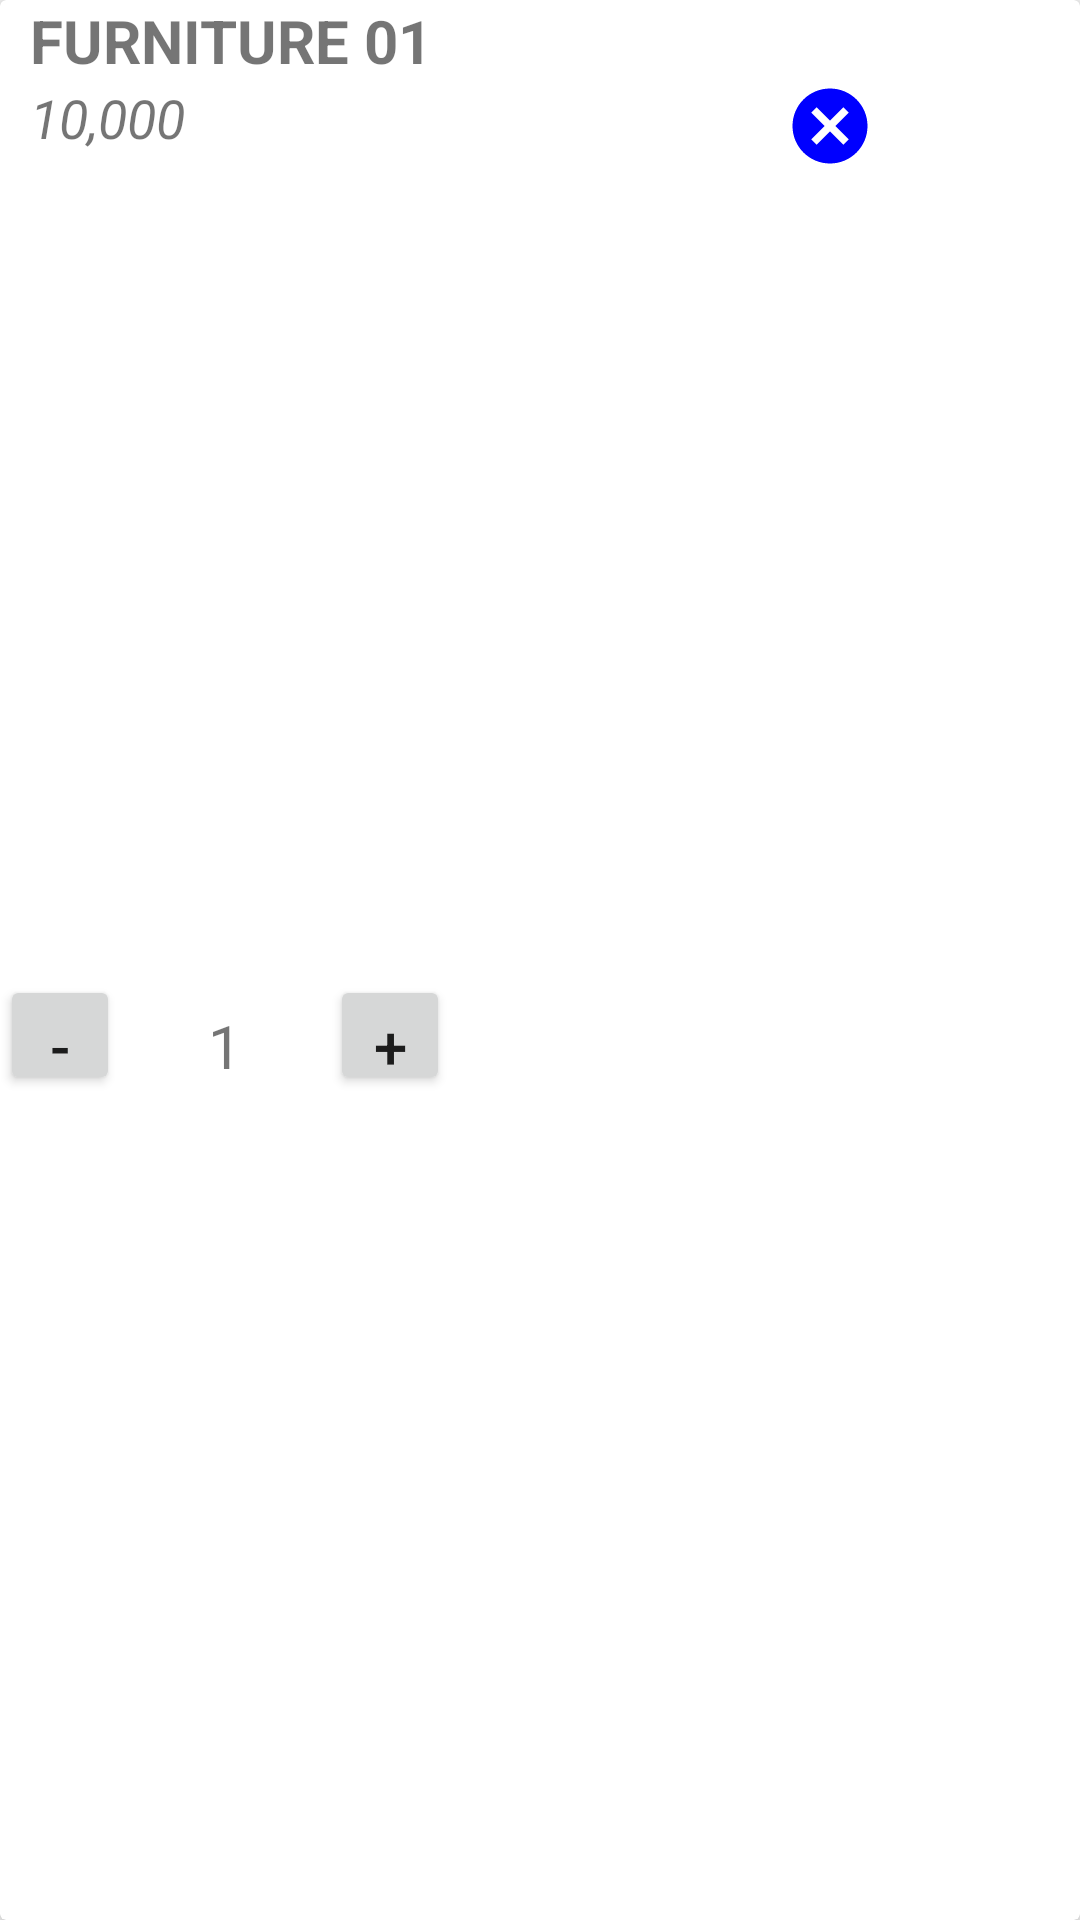

Where icons sit on this 1080px x 1920px app screen, as {"x1": x1, "y1": y1, "x2": x2, "y2": y2}:
cancel: {"x1": 792, "y1": 88, "x2": 868, "y2": 164}
